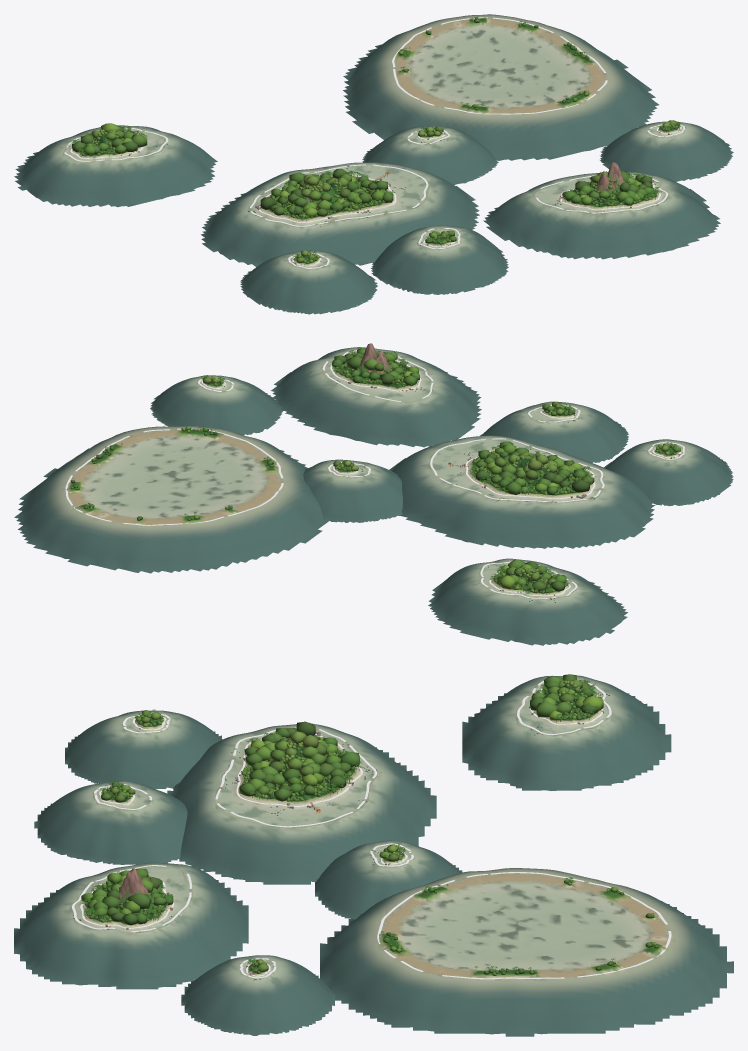
File: sky_fx_islands.glb
3 renders of one model, top to bottom at view 1: azimuth 30°, elevation 25°; view 2: azimuth 150°, elevation 25°; view 3: azimuth 270°, elevation 25°, orthographic. The views are drawn at different scales.
Parts seen in each view (by area): view 1: SFI_Atoll_Lo, SFI_Main_Lo, SFI_Green_Lo, SFI_West_Lo, SFI_Atoll_Hi, SFI_IsletB_Lo, SFI_IsletC_Lo, SFI_IsletD_Lo, SFI_IsletA_Lo, SFI_Main_Hi, SFI_Surf_All, SFI_Green_Hi (+1 smaller); view 2: SFI_Atoll_Lo, SFI_Main_Lo, SFI_Green_Lo, SFI_West_Lo, SFI_Atoll_Hi, SFI_IsletD_Lo, SFI_IsletC_Lo, SFI_IsletB_Lo, SFI_IsletA_Lo, SFI_Main_Hi, SFI_Surf_All, SFI_Green_Hi (+1 smaller); view 3: SFI_Atoll_Lo, SFI_Main_Lo, SFI_Green_Lo, SFI_West_Lo, SFI_Atoll_Hi, SFI_IsletB_Lo, SFI_IsletD_Lo, SFI_IsletC_Lo, SFI_IsletA_Lo, SFI_Main_Hi, SFI_Surf_All, SFI_Green_Hi (+2 smaller).
Boxes of the visible parts, x1,y1,x2,y2 form: SFI_Atoll_Lo: [343, 14, 658, 160]; SFI_Main_Lo: [201, 162, 479, 267]; SFI_Green_Lo: [483, 164, 720, 259]; SFI_West_Lo: [14, 123, 217, 207]; SFI_Atoll_Hi: [393, 16, 609, 116]; SFI_IsletB_Lo: [371, 225, 508, 294]; SFI_IsletC_Lo: [240, 250, 377, 314]; SFI_IsletD_Lo: [600, 120, 733, 181]; SFI_IsletA_Lo: [362, 126, 498, 184]; SFI_Main_Hi: [248, 164, 430, 228]; SFI_Surf_All: [64, 17, 685, 268]; SFI_Green_Hi: [532, 162, 670, 216]; SFI_Atoll_Lo: [14, 426, 328, 573]; SFI_Main_Lo: [389, 435, 655, 548]; SFI_Green_Lo: [271, 345, 481, 447]; SFI_West_Lo: [428, 558, 627, 645]; SFI_Atoll_Hi: [63, 427, 286, 527]; SFI_IsletD_Lo: [150, 375, 283, 435]; SFI_IsletC_Lo: [604, 439, 733, 506]; SFI_IsletB_Lo: [480, 401, 628, 462]; SFI_IsletA_Lo: [303, 459, 402, 522]; SFI_Main_Hi: [428, 438, 607, 504]; SFI_Surf_All: [65, 350, 684, 598]; SFI_Green_Hi: [320, 343, 436, 403]; SFI_Atoll_Lo: [320, 868, 733, 1036]; SFI_Main_Lo: [167, 721, 436, 884]; SFI_Green_Lo: [14, 862, 248, 989]; SFI_West_Lo: [462, 674, 671, 790]; SFI_Atoll_Hi: [374, 871, 674, 980]; SFI_IsletB_Lo: [34, 781, 187, 864]; SFI_IsletD_Lo: [181, 955, 334, 1035]; SFI_IsletC_Lo: [65, 710, 222, 788]; SFI_IsletA_Lo: [315, 840, 462, 919]; SFI_Main_Hi: [215, 729, 381, 829]; SFI_Surf_All: [72, 681, 671, 979]; SFI_Green_Hi: [69, 866, 194, 934].
Bounding box in the file's own units: 1546 × 142 × 1330.
